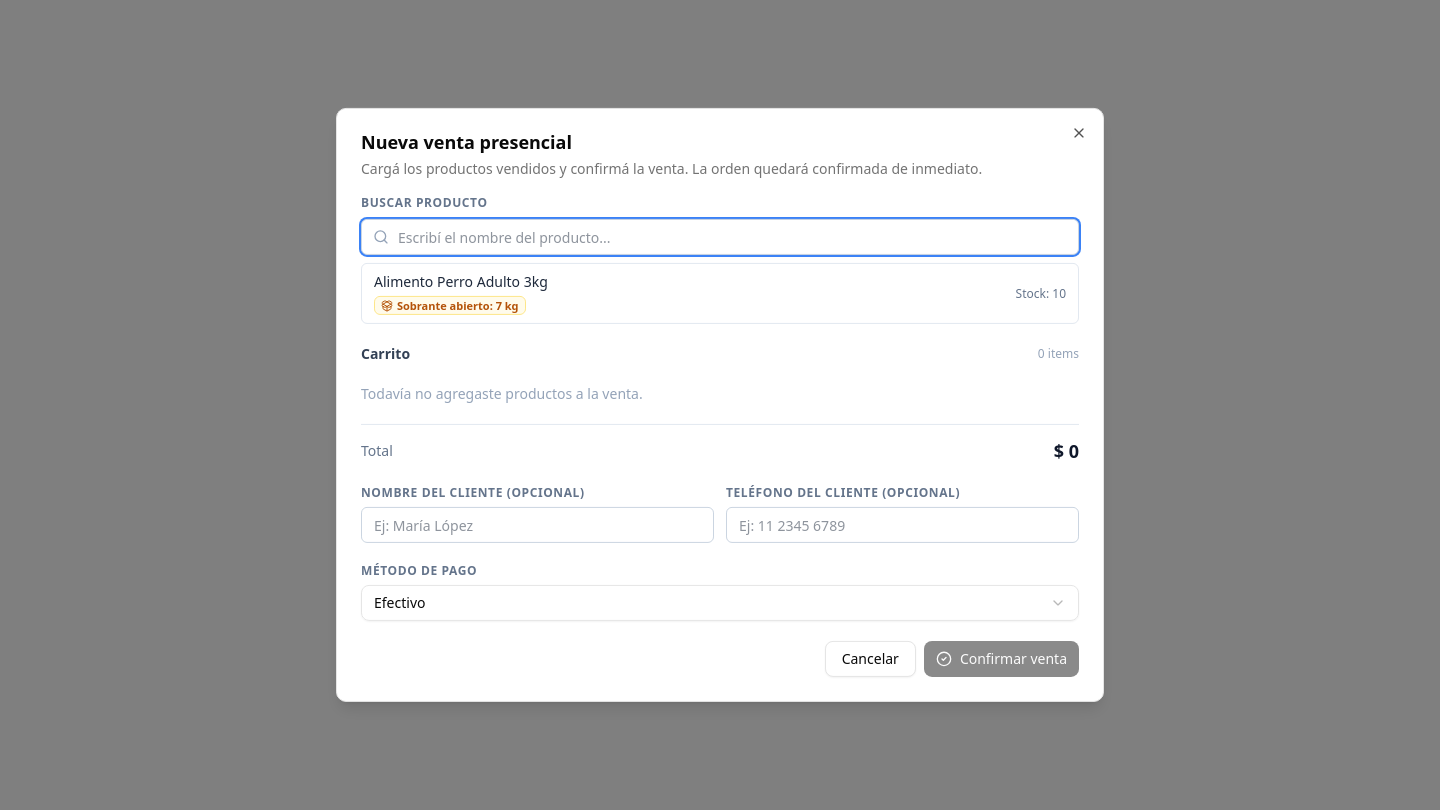
Test: ManualSaleDialog — badge de sobrante abierto › aparece en la tarjeta de selección cuando la presentación elegida es Kilo
Click the button "Alimento Perro Adulto 3kg Sobrante abierto: 7 kg Stock: 10".
click(461, 281)  # box [362,264,1078,323]
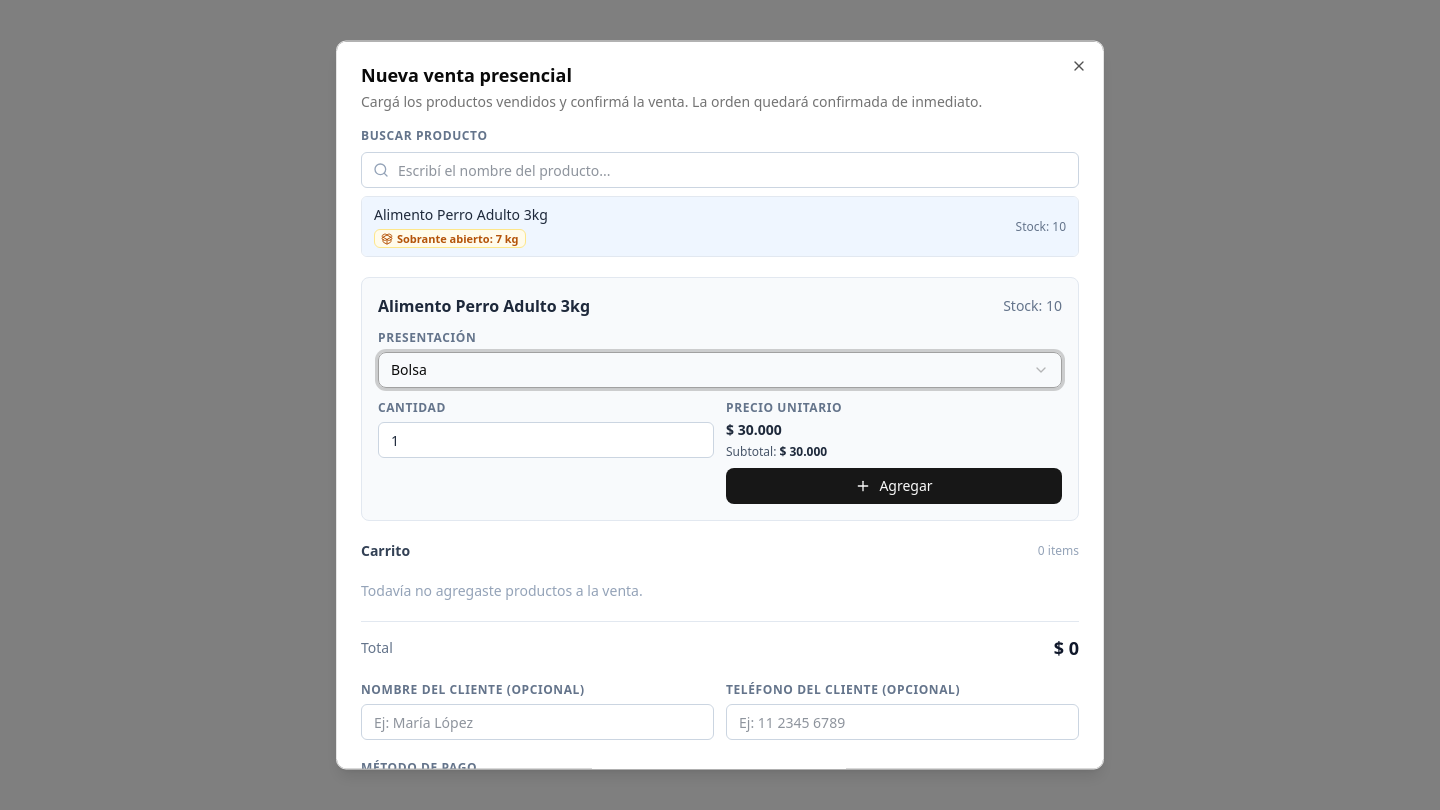
Press Enter
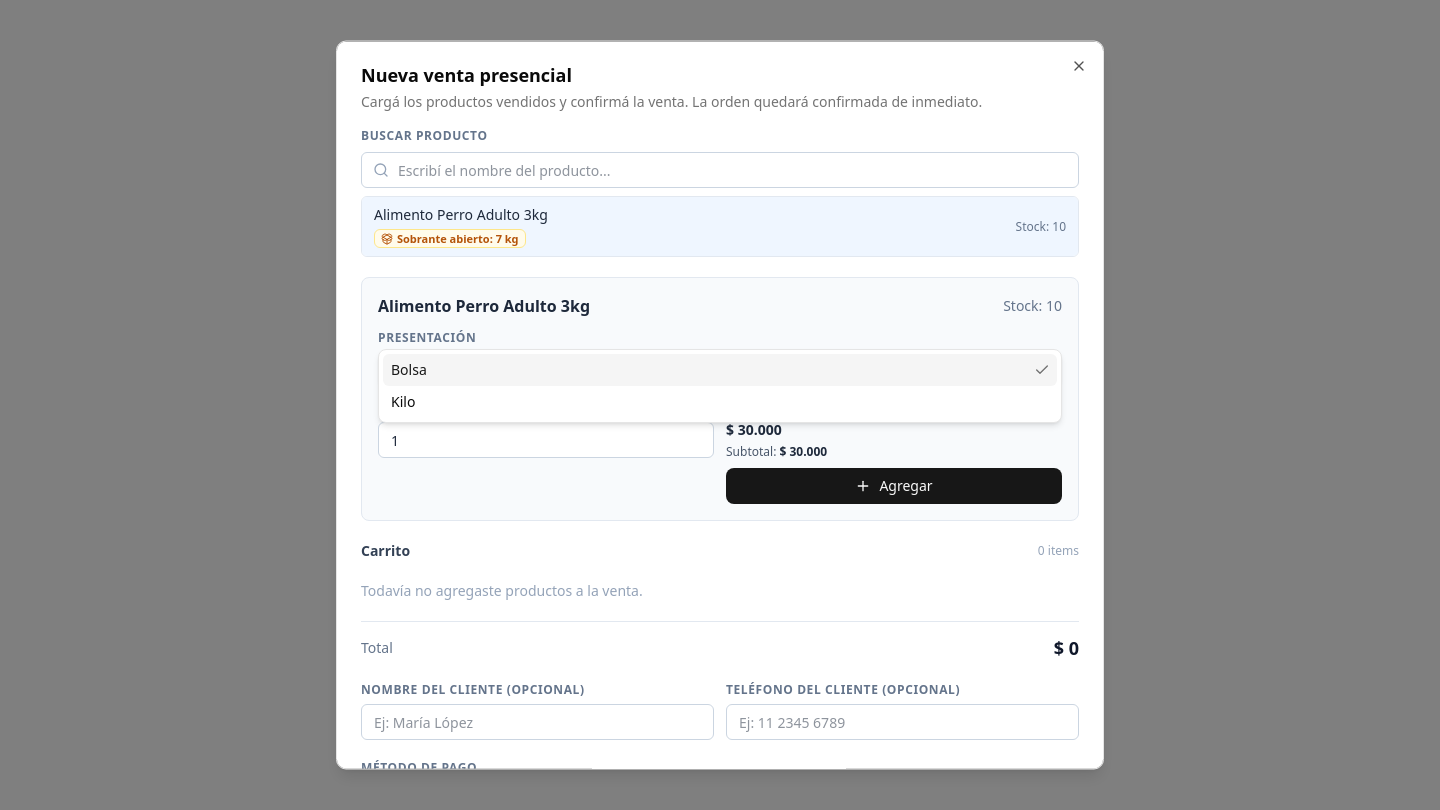
Click the option "Kilo".
click(403, 401)  # box [391,392,415,411]
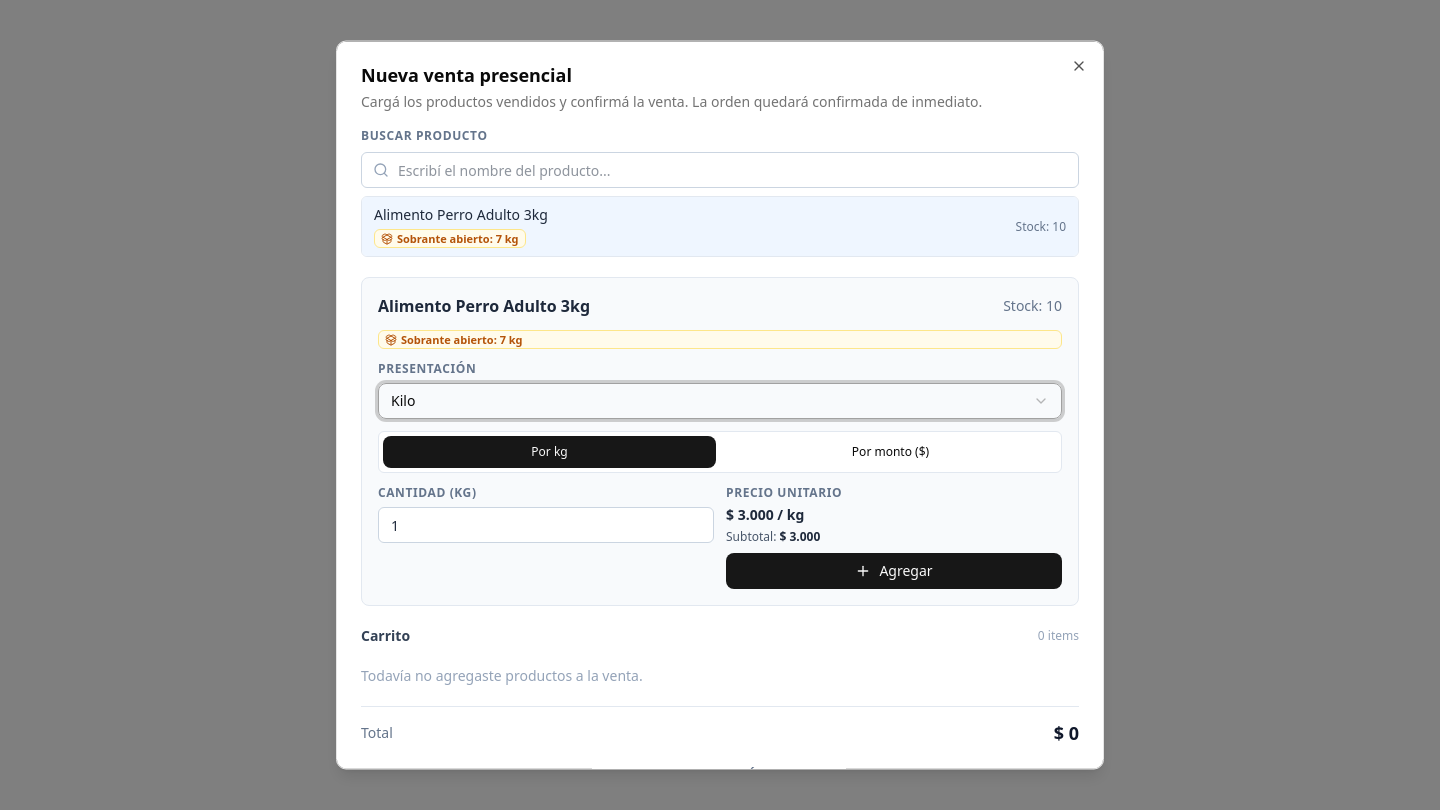
Expected: the dropdown labelled "Kilo" is shown, [378,383,1062,419]
Expected: the 2nd text "Sobrante abierto: 7 kg" is shown, [378,330,1062,349]
